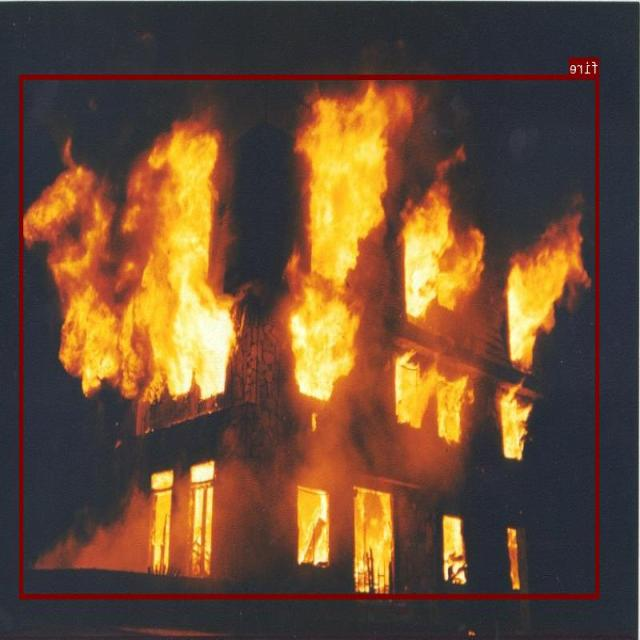fire: (21, 74, 600, 598)
